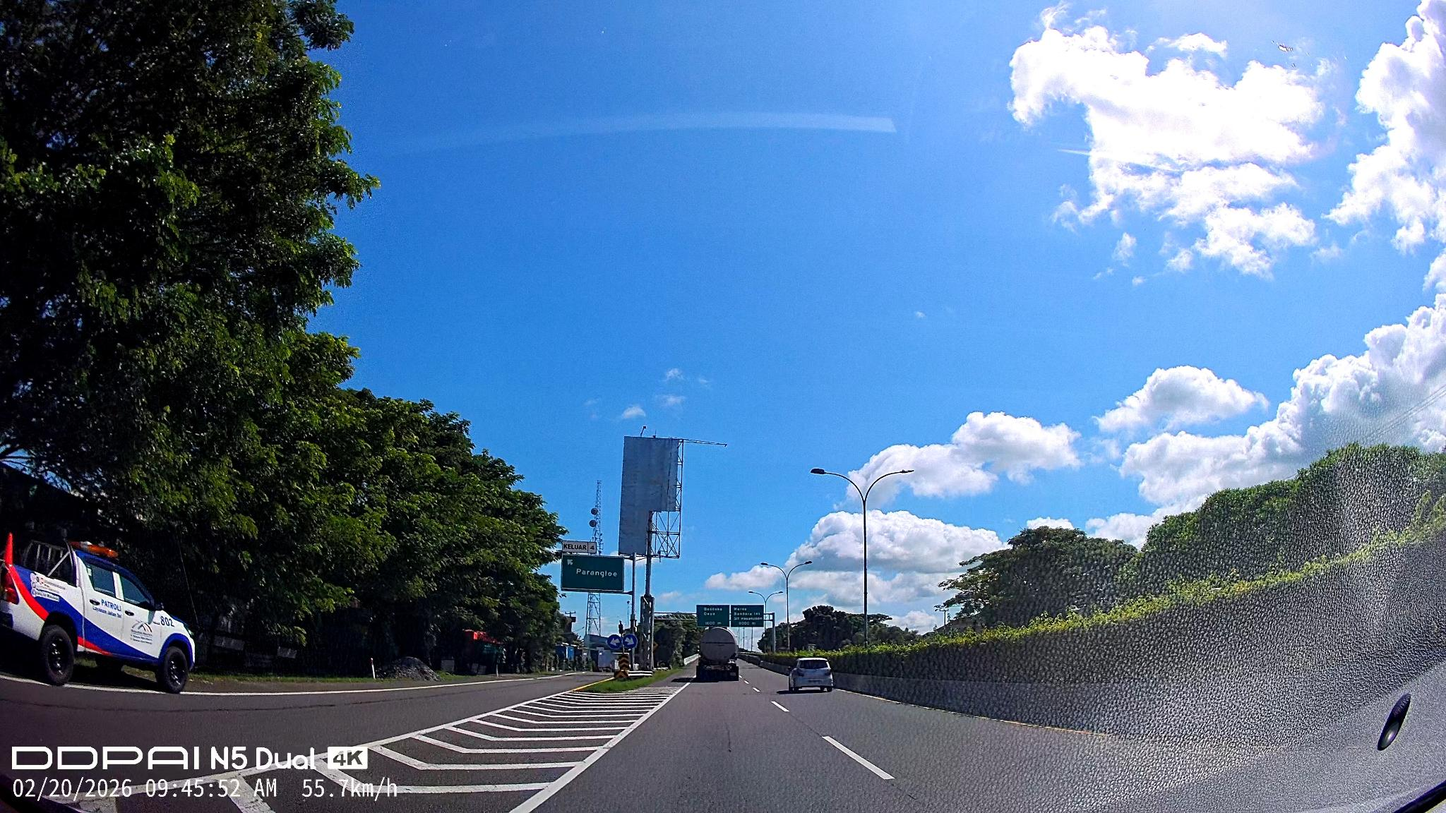rambu_teks: (560, 553, 625, 593)
